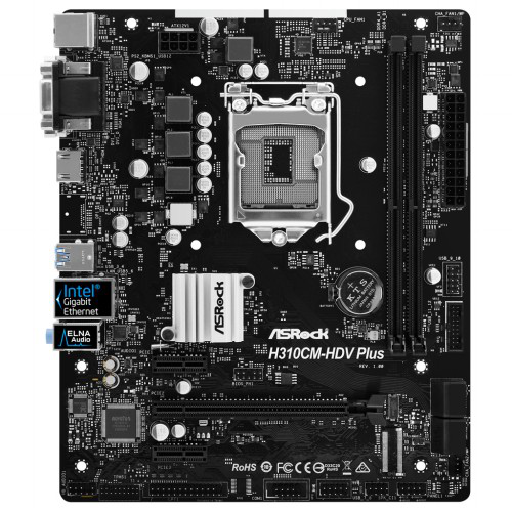CPU: (225, 82, 344, 245)
GPU: (151, 396, 389, 429)
MOTHERBOARD: (43, 7, 472, 500)
RAM: (382, 34, 429, 358)
